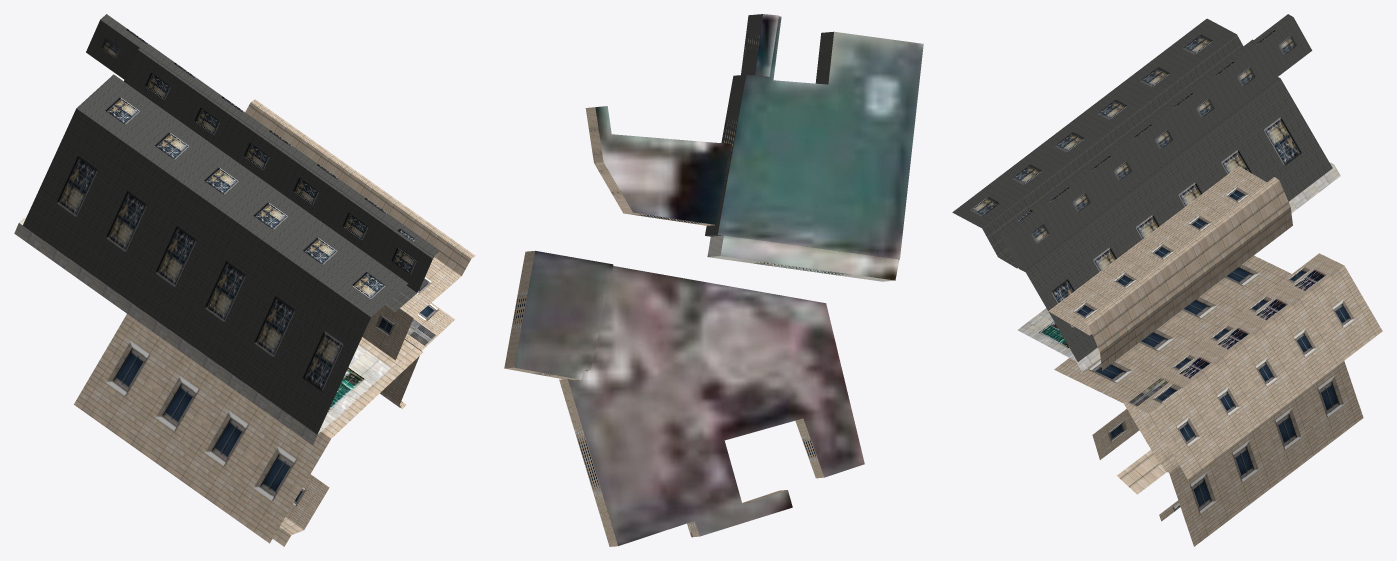
3 renders of one model, left to right at view 1: azimuth 30°, elevation 25°; view 2: azimuth 150°, elevation 25°; view 3: azimuth 270°, elevation 25°, orthographic. The views are drawn at different scales.
Size of the model in its own units: 23.28 by 30.64 by 26.43.
23 materials, 23 textured.
